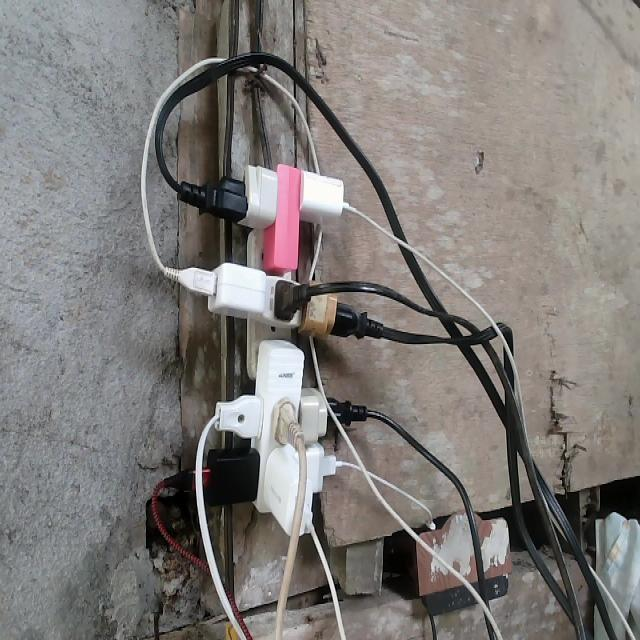-: (174, 159, 356, 536)
